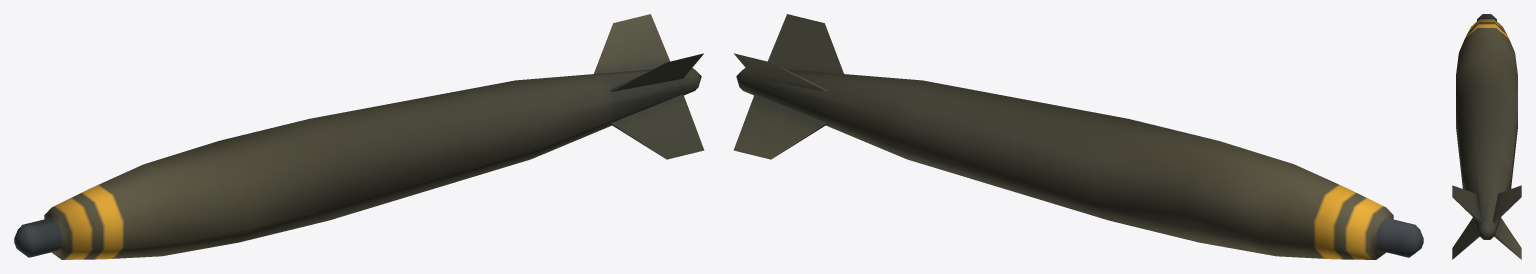
File: Mk82Bomb.obj
3 renders of one model, left to right at view 1: azimuth 30°, elevation 25°; view 2: azimuth 150°, elevation 25°; view 3: azimuth 270°, elevation 25°, orthographic. The views are drawn at different scales.
Bounding box in the file's own units: 1.52 × 0.206 × 0.206.
